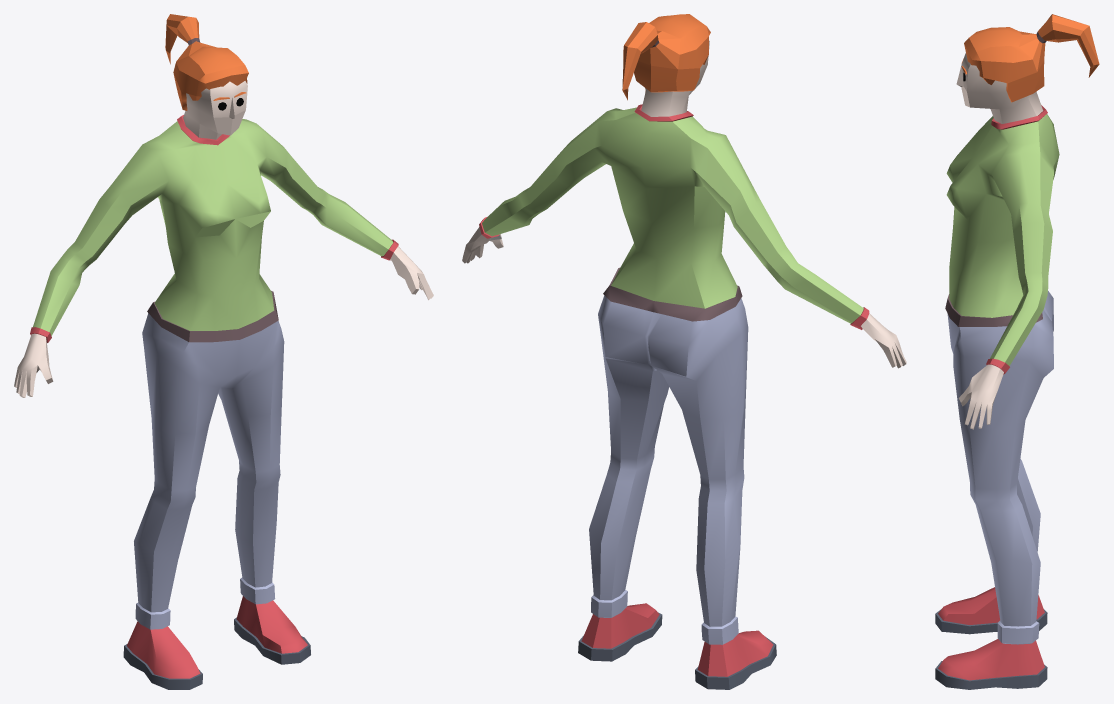
Rendered from LowPolyCharacter4.gltf.
3 views of the same model, side by side, from view 1: azimuth 30°, elevation 25°; view 2: azimuth 150°, elevation 25°; view 3: azimuth 270°, elevation 25° (orthographic). The views are drawn at different scales.
Parts seen in each view (by area): view 1: lowPolyCharacterFemaleFace7; view 2: lowPolyCharacterFemaleFace7; view 3: lowPolyCharacterFemaleFace7.
Part boxes in pixels (left/top/right/bottom): lowPolyCharacterFemaleFace7: left=14, top=14, right=433, bottom=689; lowPolyCharacterFemaleFace7: left=462, top=14, right=906, bottom=689; lowPolyCharacterFemaleFace7: left=935, top=14, right=1099, bottom=689.
Size of the model in its own units: 133 by 190 by 44.34.
